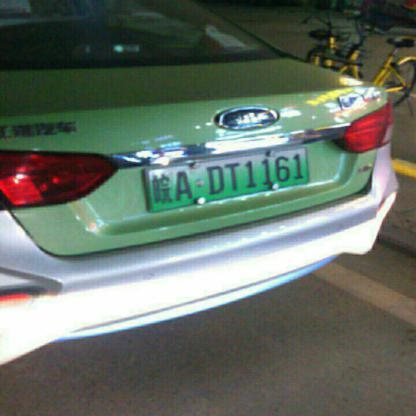lp: (145, 147, 308, 211)
